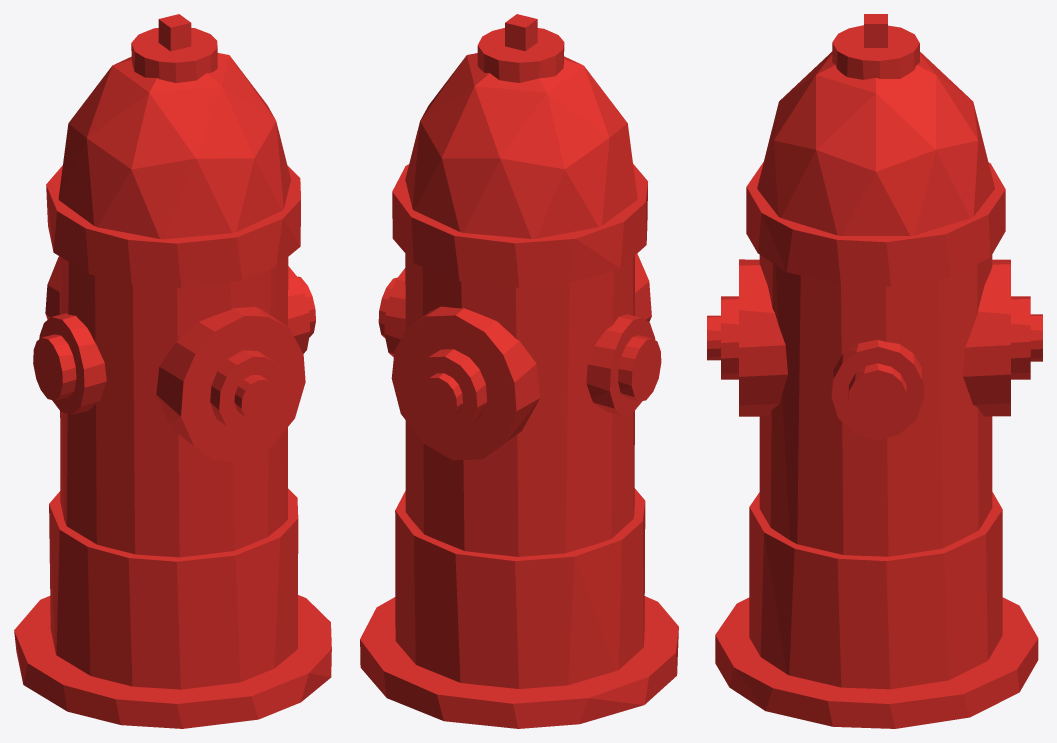
The model's file is Fire Hydrant.fbx.
3 renders of one model, left to right at view 1: azimuth 30°, elevation 25°; view 2: azimuth 150°, elevation 25°; view 3: azimuth 270°, elevation 25°, orthographic.
Visible parts, largest first — view 1: Fire Hydrant; view 2: Fire Hydrant; view 3: Fire Hydrant.
Part boxes in pixels (box(x1,y1,x2,y2)): Fire Hydrant: box(14, 14, 331, 728); Fire Hydrant: box(360, 14, 678, 728); Fire Hydrant: box(707, 14, 1042, 728).
Bounding box in the file's own units: 35.47 × 78.82 × 37.34.
